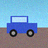vehicle: (7, 16, 37, 37)
